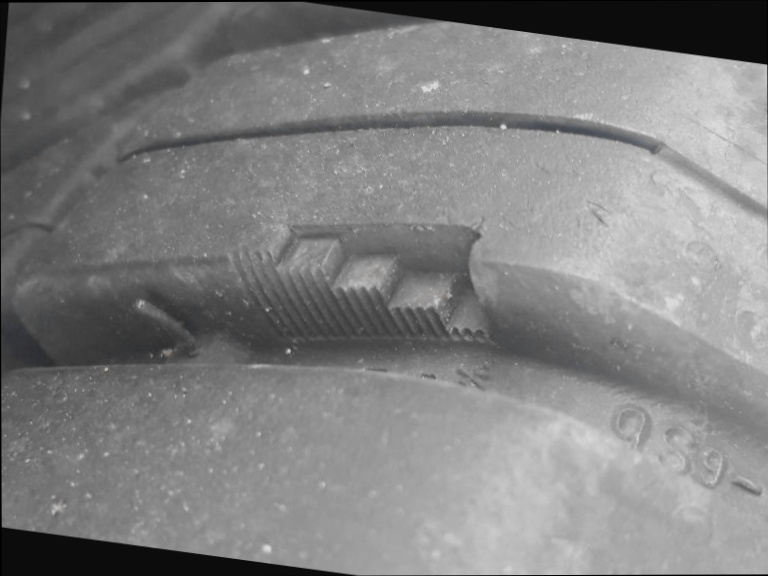temoin:90: (214, 184, 518, 386)
